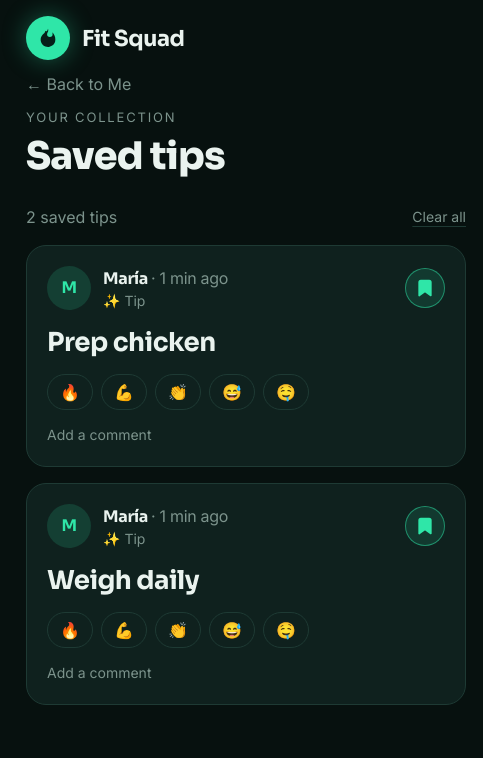
Test: with saved posts › puts the list back if clearing fails
expect the heading "Prep chicken" is shown: met, box [47,322,216,362]
Click the button "Clear all" at (439, 216), box [412,206,466,226]
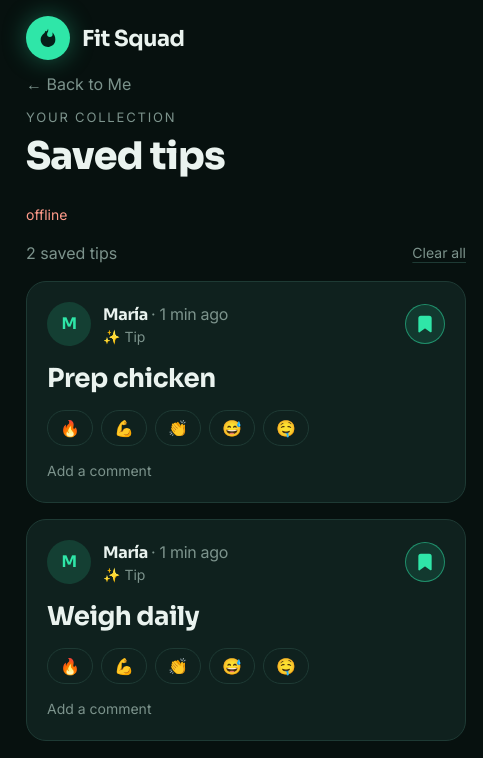
expect the heading "Prep chicken" is shown: met, box [47,358,216,398]
expect the text "offline" is shown: met, box [26,206,67,222]
